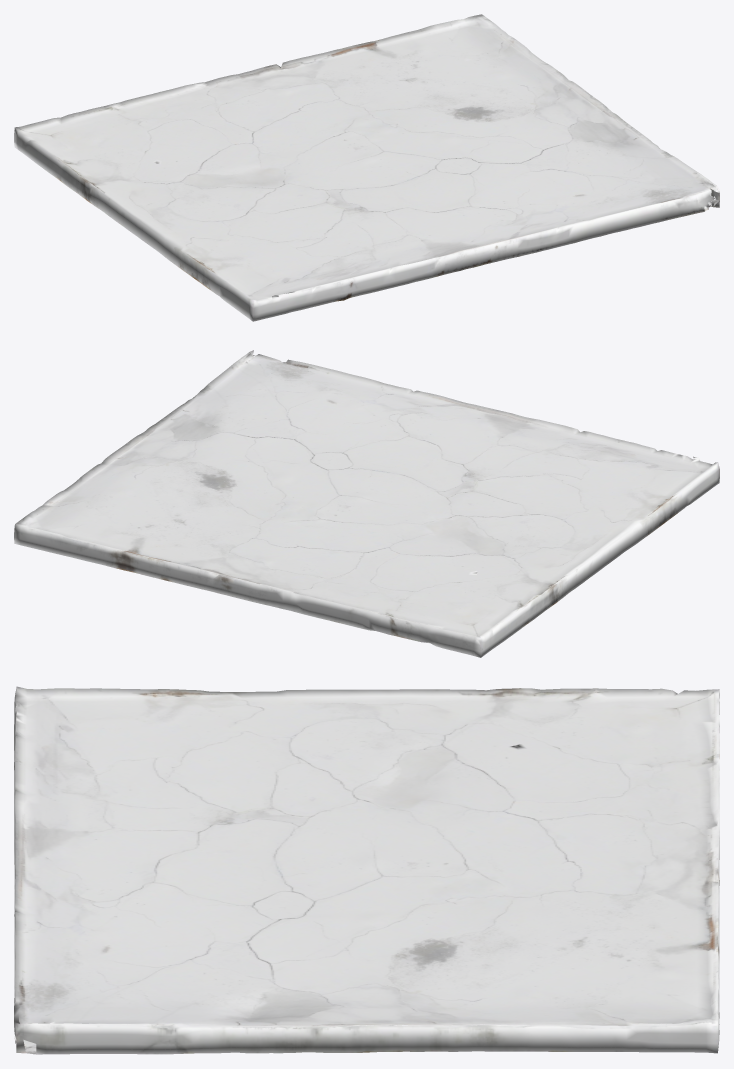
File: an_indoor_roof_plain_0420192934_texture.fbx
The picture shows the model from 3 angles, top to bottom: view 1: azimuth 30°, elevation 25°; view 2: azimuth 150°, elevation 25°; view 3: azimuth 270°, elevation 25°; orthographic projection. The views are drawn at different scales.
Visible parts, largest first — view 1: Mesh1; view 2: Mesh1; view 3: Mesh1.
Boxes of the visible parts, bbox=[...] form: Mesh1: bbox=[14, 14, 719, 321]; Mesh1: bbox=[14, 350, 719, 657]; Mesh1: bbox=[14, 686, 719, 1054].
Size of the model in its own units: 200 by 9.06 by 177.
1 material, 1 textured.
